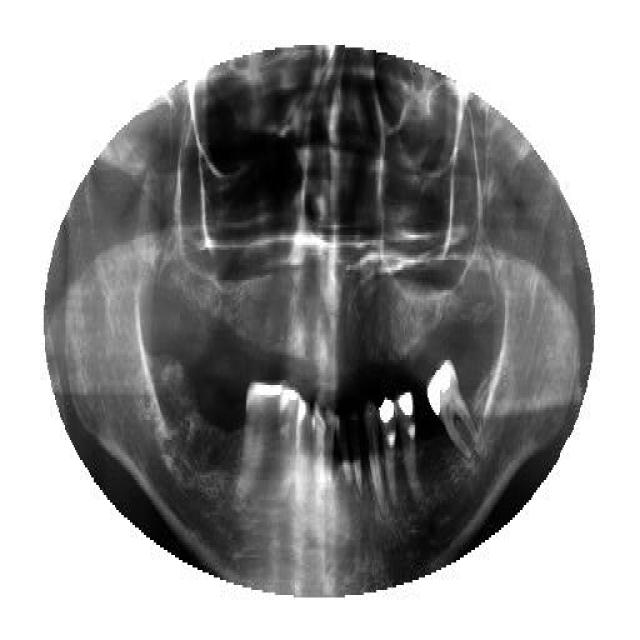Fillings: (427, 360, 478, 458), (395, 392, 417, 500), (377, 395, 398, 503)
